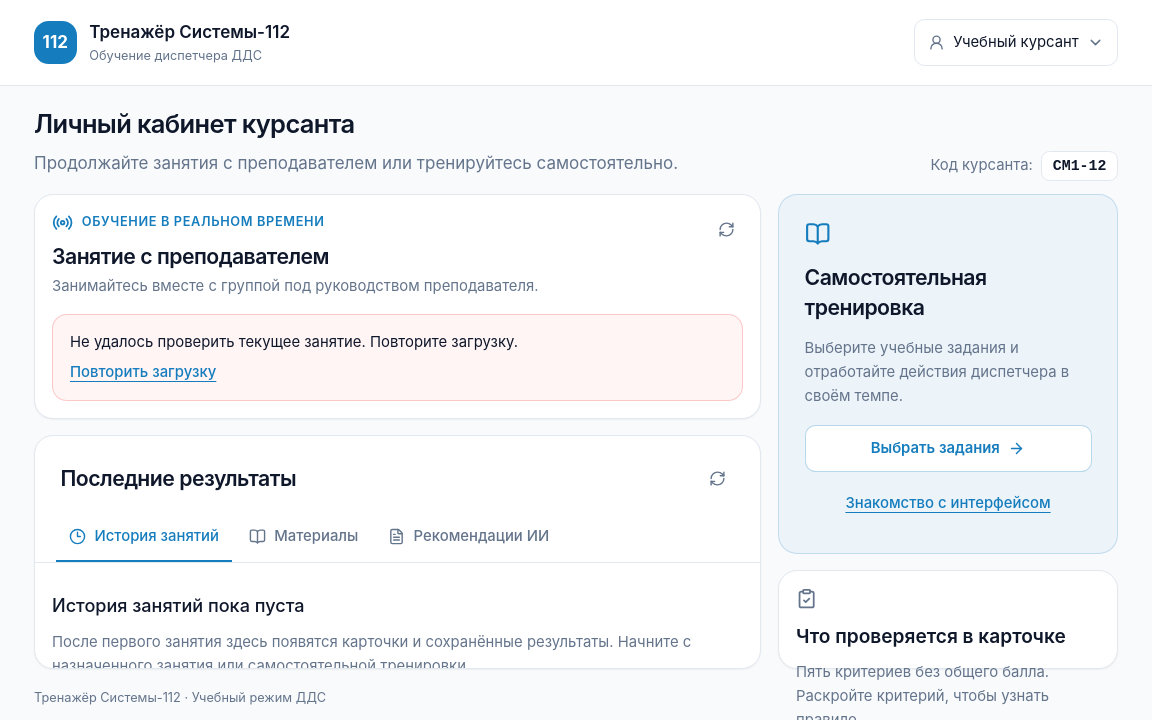
Scenario: distinguishes an assignments failure from an empty list and supports retry
Expected: the message "Не удалось проверить текущее занятие. Повторите загрузку. Повторить загрузку" is shown, x1=52 y1=314 x2=743 y2=401
Click the button "Повторить загрузку": (143, 373) x1=70 y1=362 x2=216 y2=383
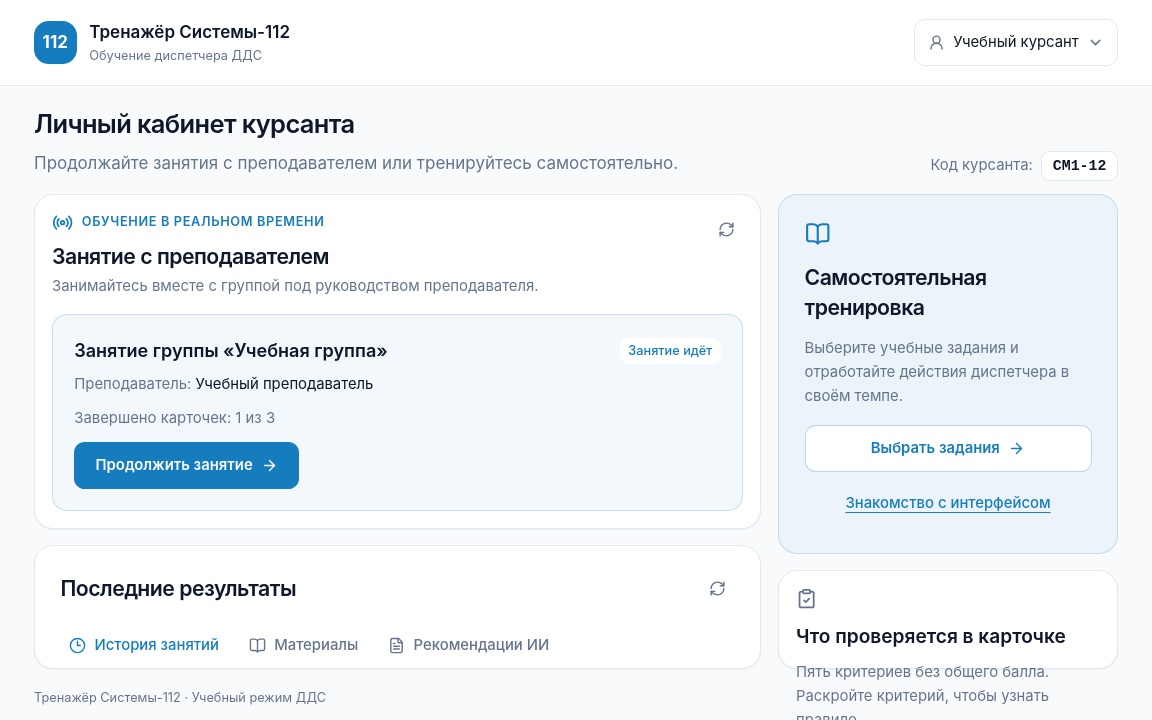
Expected: the link "Продолжить занятие" is shown, x1=74 y1=442 x2=300 y2=489
